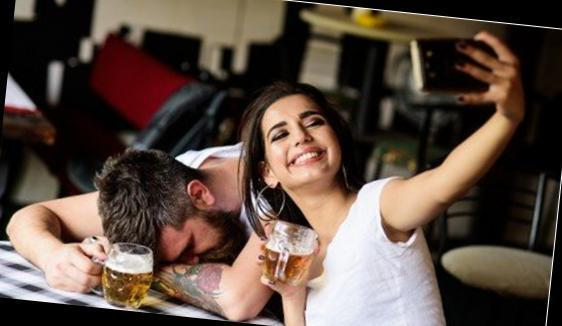Drunk: (262, 99, 337, 181)
